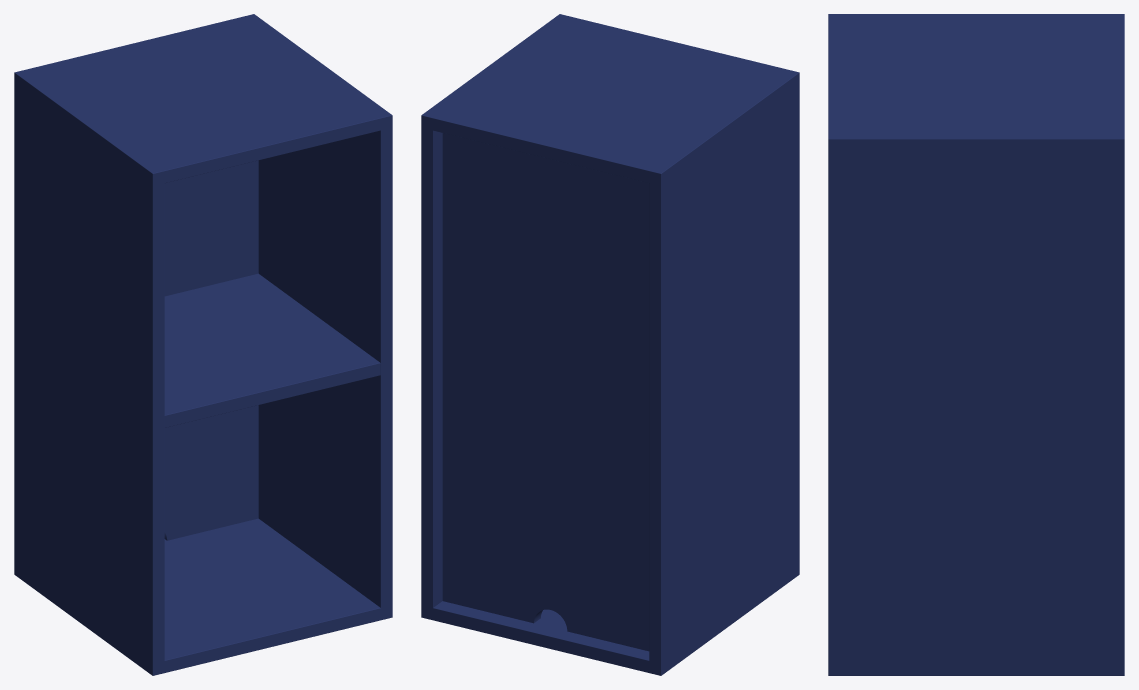
File: MOD_1X2_S_B_AP_AF.glb
The picture shows the model from 3 angles, left to right: view 1: azimuth 30°, elevation 25°; view 2: azimuth 150°, elevation 25°; view 3: azimuth 270°, elevation 25°; orthographic projection. The views are drawn at different scales.
Size of the model in its own units: 360 by 720 by 360.
